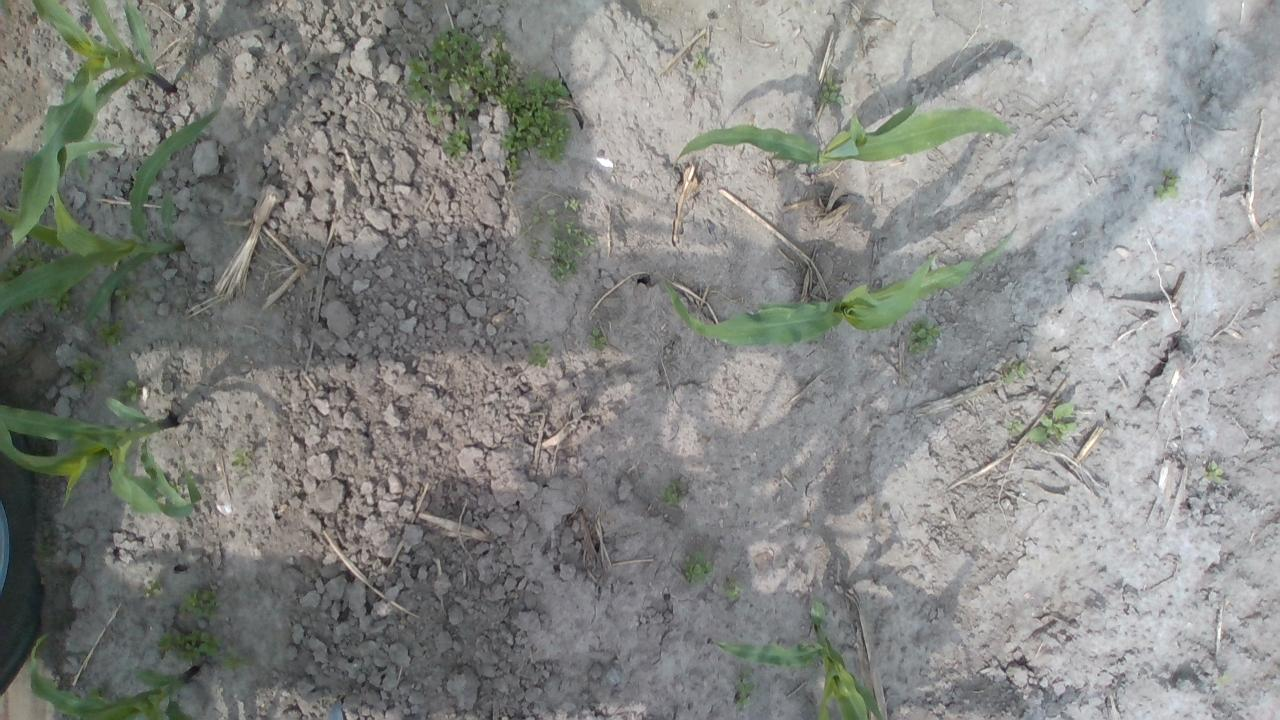Maize: (0, 106, 224, 329), (659, 220, 1022, 349), (0, 2, 181, 254), (0, 395, 204, 527), (670, 99, 1020, 172), (709, 598, 887, 718), (22, 630, 205, 716)
Weeds: (398, 23, 578, 182), (522, 194, 602, 286), (3, 246, 88, 318), (81, 271, 142, 352), (33, 456, 66, 602), (154, 626, 237, 668), (1008, 400, 1078, 448), (181, 587, 219, 625), (68, 357, 106, 385), (997, 360, 1030, 392), (910, 320, 940, 352), (230, 446, 252, 485), (686, 548, 709, 584), (732, 676, 751, 718), (815, 82, 842, 106), (528, 338, 550, 366), (1154, 174, 1178, 198), (141, 574, 163, 598), (1064, 260, 1088, 282), (590, 324, 610, 350), (660, 484, 684, 505), (120, 377, 138, 399), (1208, 460, 1223, 486), (722, 586, 740, 606), (692, 50, 706, 70), (1220, 670, 1234, 688)
